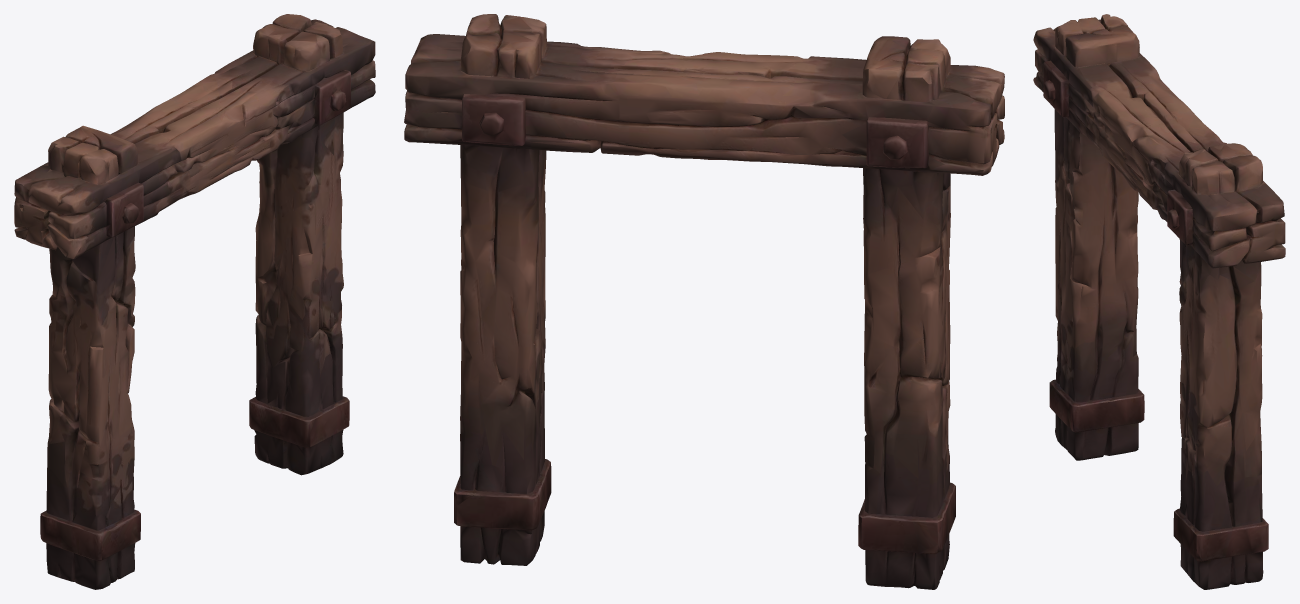
File: mine_support_wood_idle.glb
3 views of the same model, side by side, from view 1: azimuth 30°, elevation 25°; view 2: azimuth 150°, elevation 25°; view 3: azimuth 270°, elevation 25° (orthographic). The views are drawn at different scales.
Visible parts, largest first — view 1: tripo_node_959e8125-9edd-49ab-9941-b3e02b63a110; view 2: tripo_node_959e8125-9edd-49ab-9941-b3e02b63a110; view 3: tripo_node_959e8125-9edd-49ab-9941-b3e02b63a110.
Part boxes in pixels (x1=…): tripo_node_959e8125-9edd-49ab-9941-b3e02b63a110: x1=14, y1=14, x2=375, y2=589; tripo_node_959e8125-9edd-49ab-9941-b3e02b63a110: x1=404, y1=14, x2=1004, y2=589; tripo_node_959e8125-9edd-49ab-9941-b3e02b63a110: x1=1033, y1=14, x2=1285, y2=589.
Bounding box in the file's own units: 2.53 × 2.5 × 1.37.
1 material, 1 textured.
